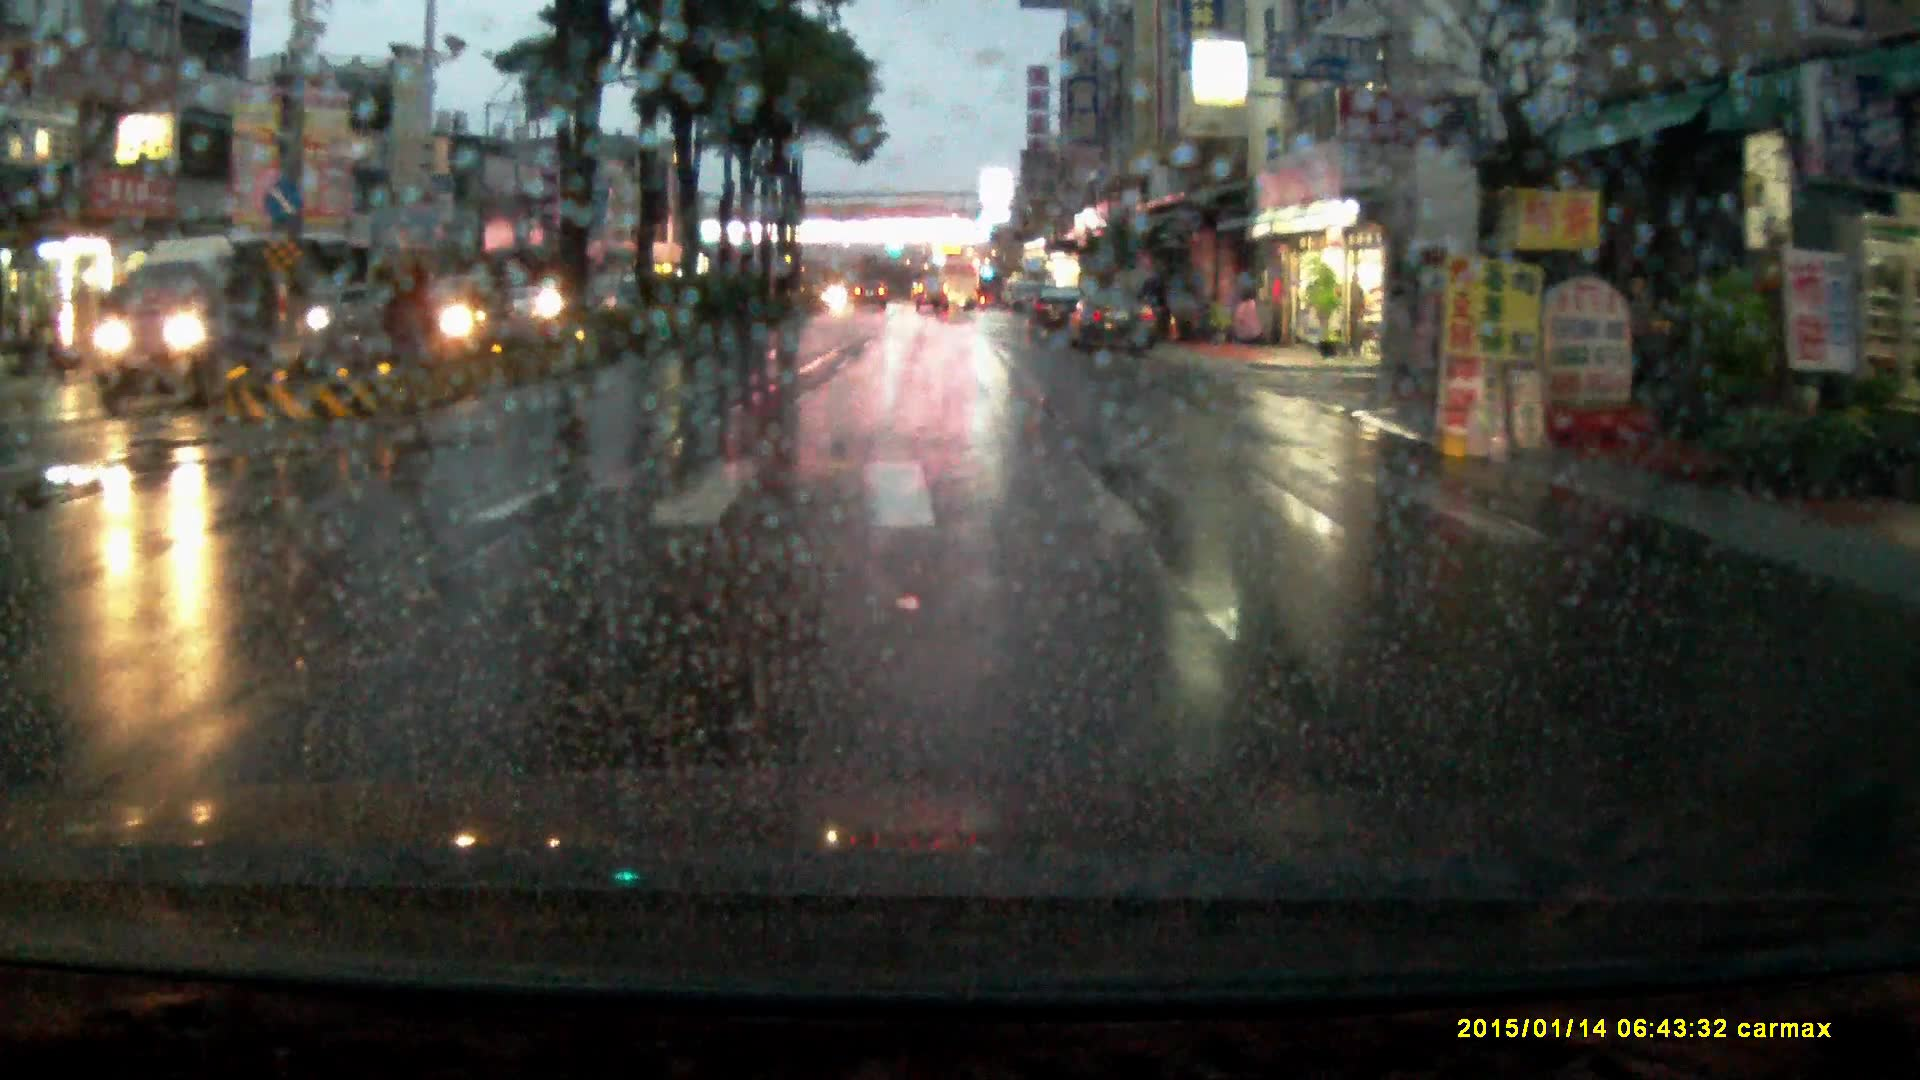vehicle: (92, 229, 360, 415), (381, 276, 520, 353), (1065, 286, 1160, 357), (311, 286, 390, 343), (1026, 285, 1083, 336), (935, 261, 981, 319), (916, 277, 952, 316), (852, 282, 890, 314)
